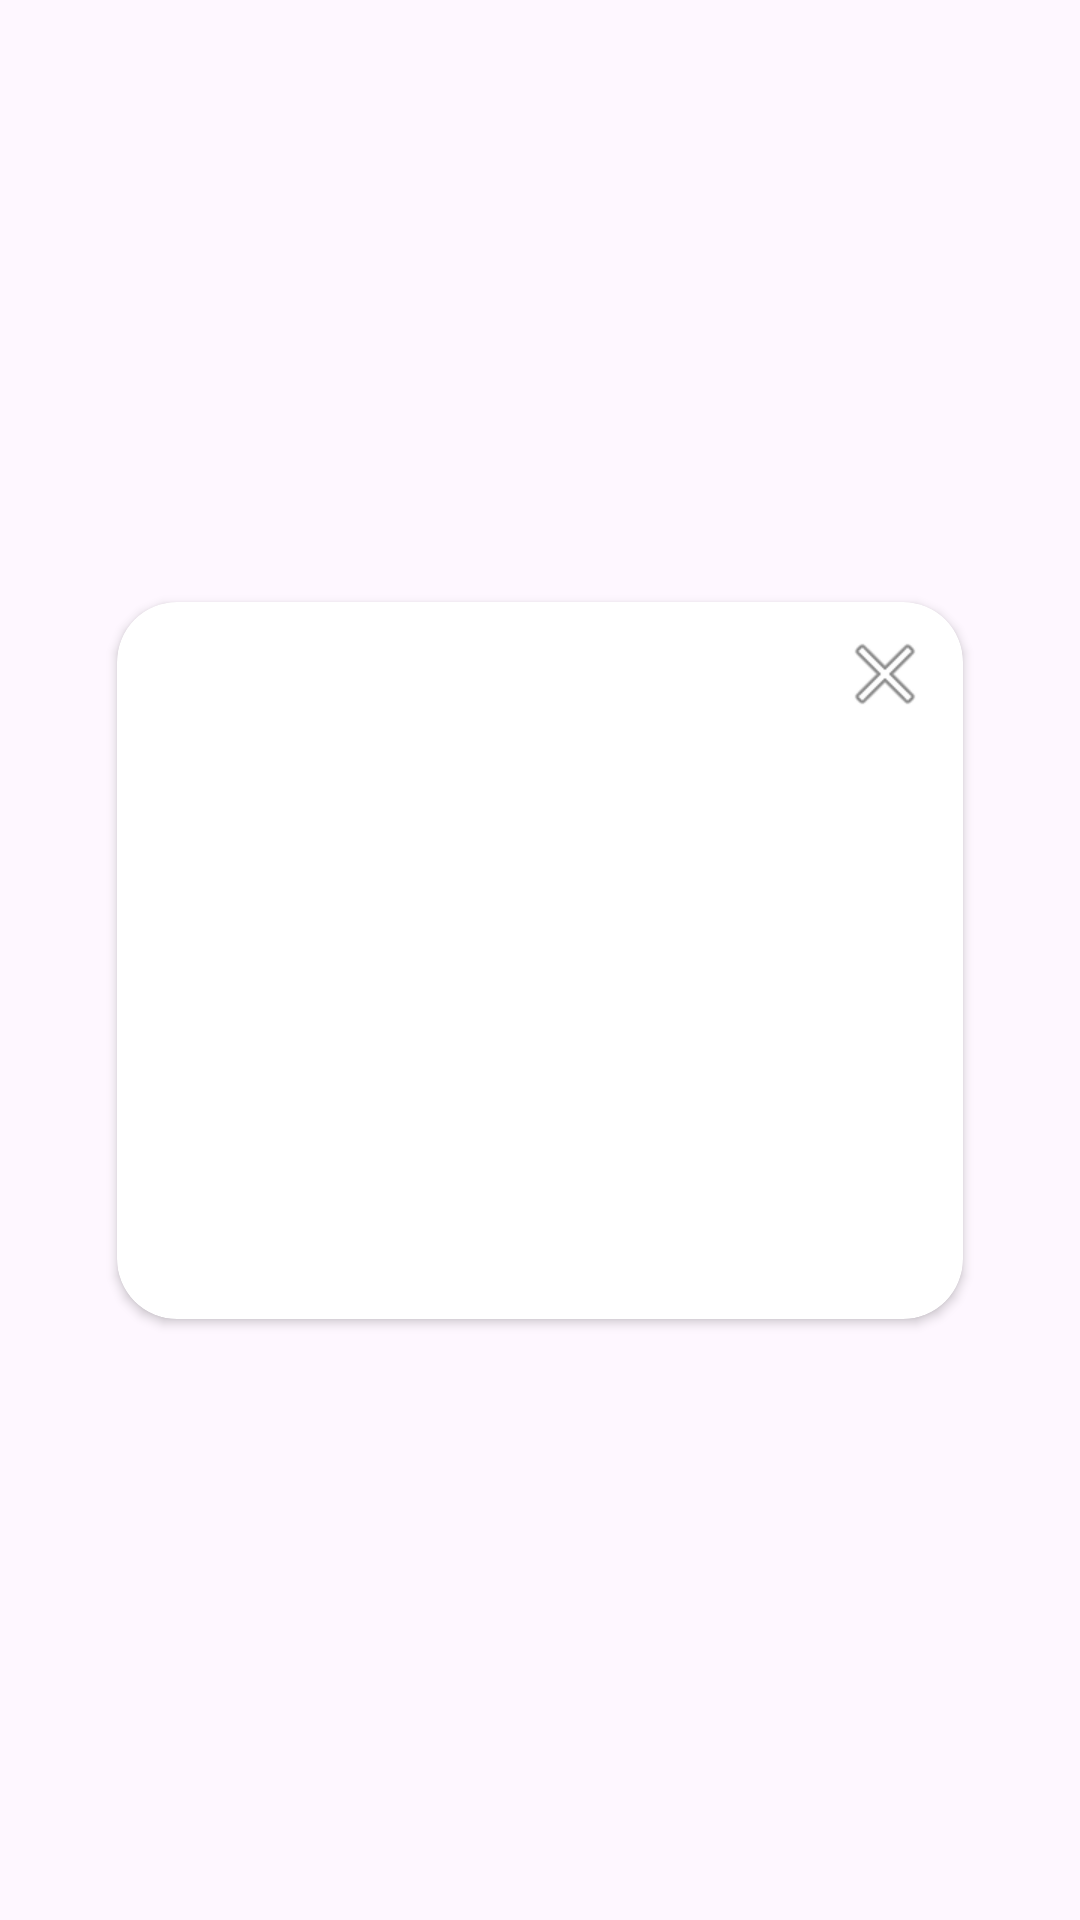

Where icons sit on this 1080px x 1920px app screen, as rect(x1, y1, x2, y2):
close clear cancel: rect(855, 612, 942, 704)
